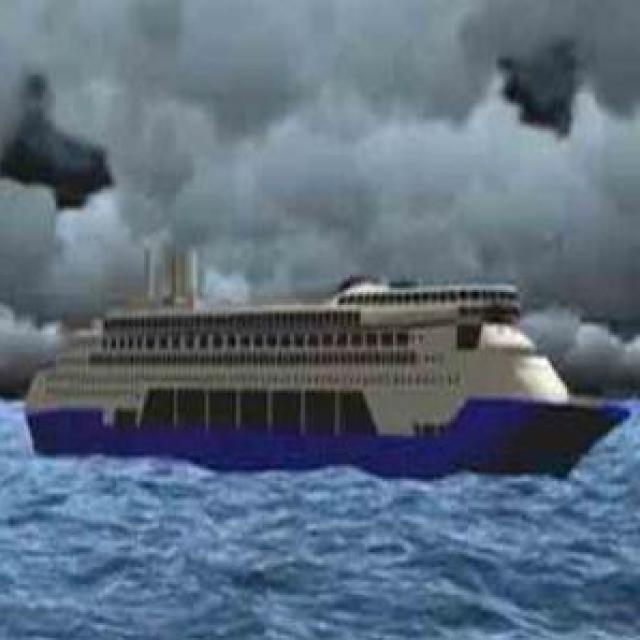passenger ship: (0, 279, 623, 475)
